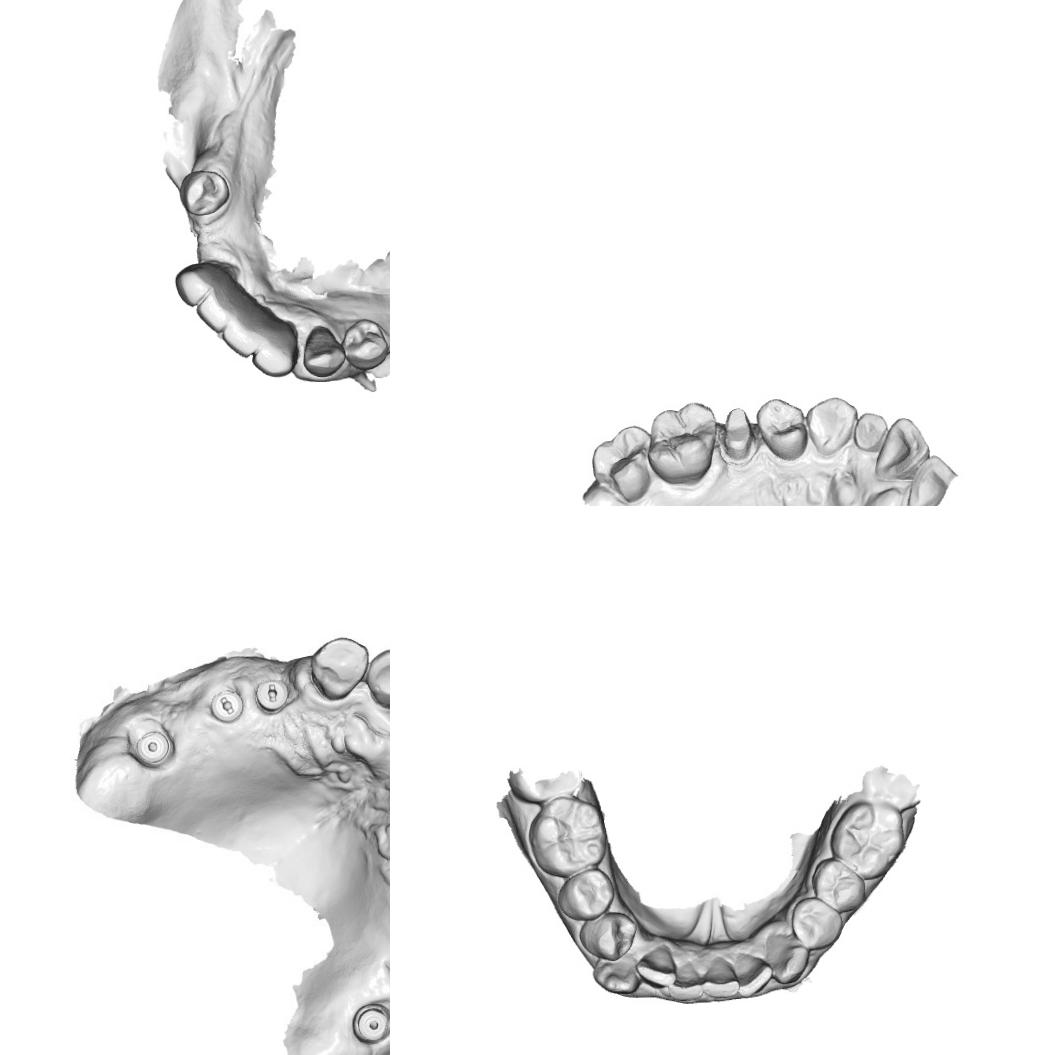canine: (304, 634, 370, 702), (806, 396, 858, 458), (587, 941, 644, 997), (299, 324, 349, 380), (768, 929, 814, 987)
crown: (718, 404, 759, 469)
implant: (350, 999, 390, 1046), (127, 726, 171, 768)
implant_minus: (253, 672, 291, 716), (210, 688, 244, 724)
incisor: (873, 416, 932, 482), (251, 316, 298, 378), (172, 259, 229, 308), (730, 944, 776, 999), (634, 936, 680, 991), (216, 308, 264, 358), (194, 290, 244, 334), (668, 956, 708, 1009), (699, 956, 741, 1006), (361, 644, 390, 706), (853, 412, 888, 452)
molar: (526, 794, 611, 876), (827, 798, 906, 882), (645, 401, 718, 486), (590, 422, 658, 504)
premolar: (809, 846, 869, 913), (556, 866, 620, 924), (754, 396, 810, 462), (576, 908, 641, 963), (788, 895, 844, 952), (176, 167, 233, 218), (341, 316, 390, 372)
